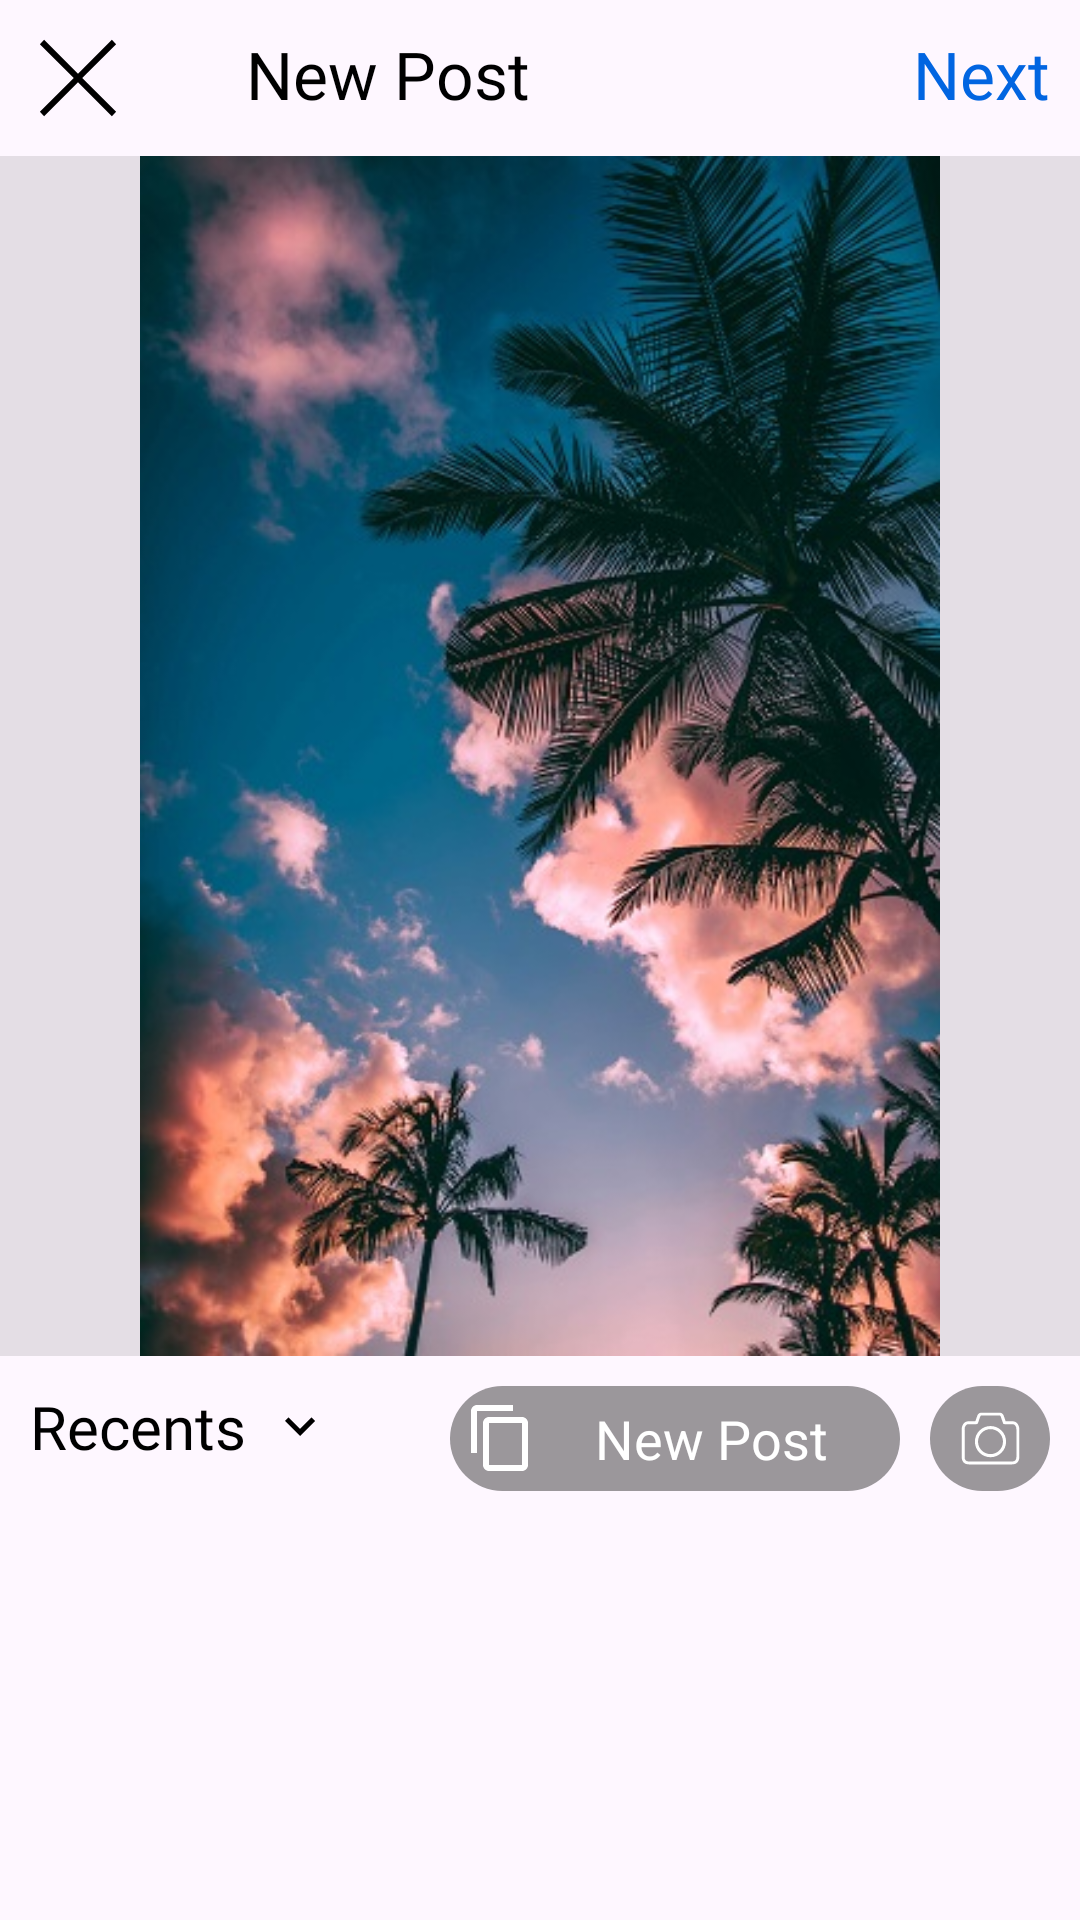

Point at icon controls on the screen. Image size 1080px x 1920px, points as [x,y].
camra: [990,1438]
cross sign: [78,78]
